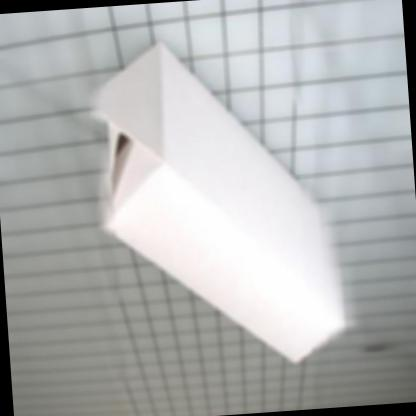box: (57, 42, 361, 381)
